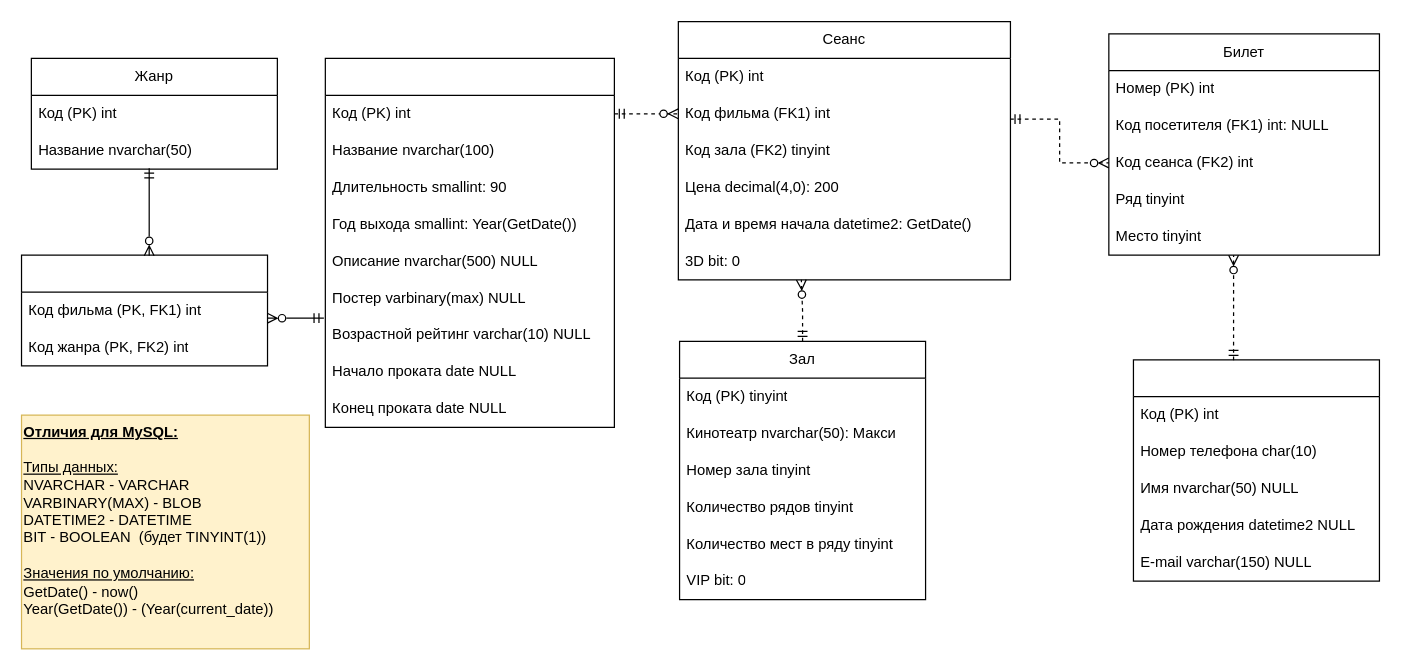
The diagram is 1401 pixels wide and 670 high, and some of its shapes have lost their labels. Each missing label, with the box of its shape:
Жанр фильма: (20, 254, 268, 366)
Посетитель: (1132, 359, 1379, 581)
Фильм: (324, 57, 614, 427)
